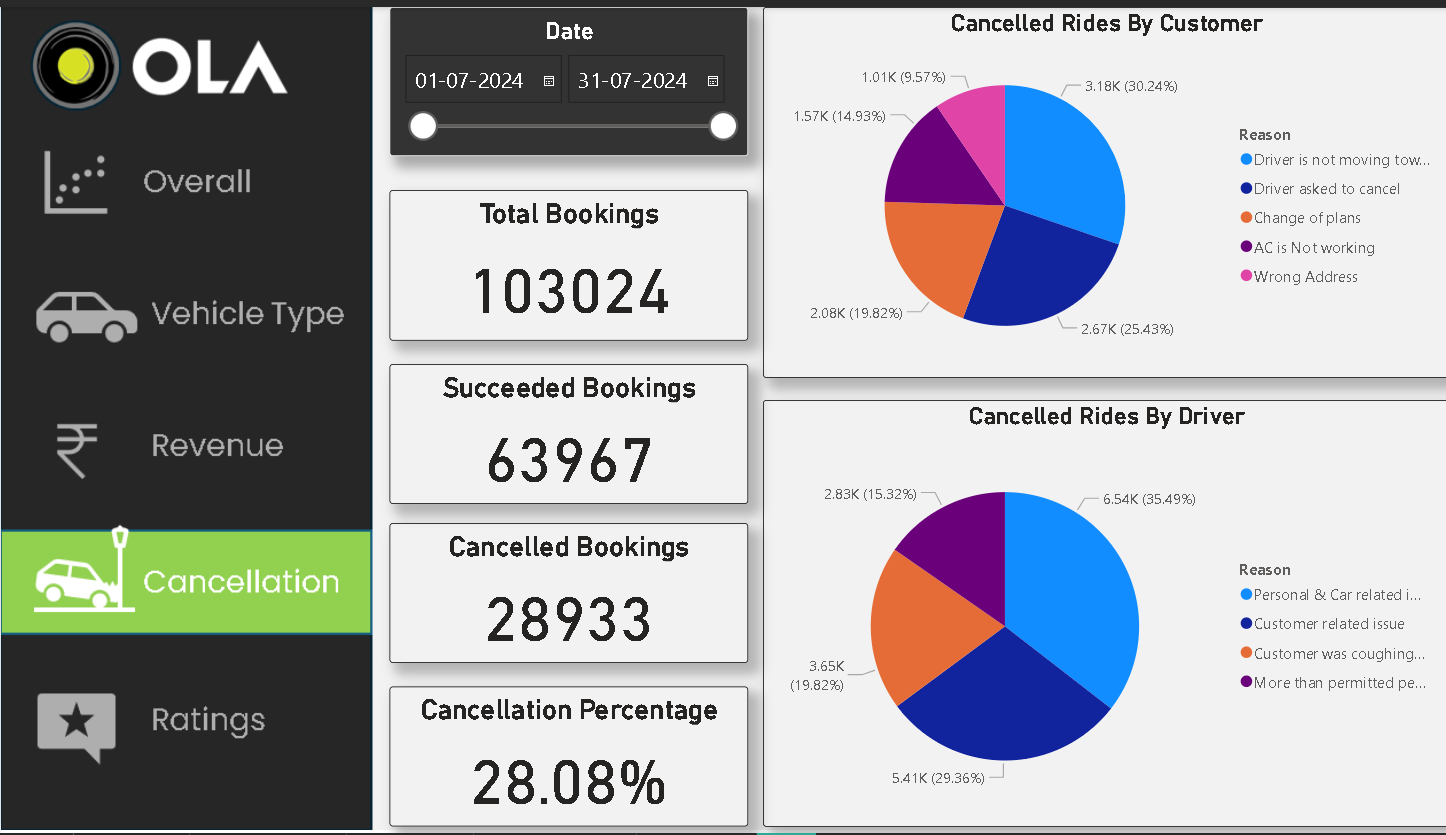

The page's visual inventory and layout, read from the dashboard file:
{"tool":"powerbi","page":{"name":"Cancellation","canvas":[1280,720],"ordinal":3},"visuals":[{"type":"actionButton","box":[0,224.5,324.3,86.6],"z":0},{"type":"actionButton","box":[1.5,341.9,324.3,86.6],"z":1000},{"type":"actionButton","box":[0,110.1,324.3,86.6],"z":2000},{"type":"actionButton","box":[0,582.6,324.3,86.6],"z":3000},{"type":"pieChart","title":"Cancelled Rides By Customer","fields":{"Category":["Bookings-100000-Rows.canceled_rides_by_customer"],"Y":["CountNonNull(Bookings-100000-Rows.canceled_rides_by_customer)"]},"box":[664.1,0,598.4,323.4],"z":4000},{"type":"pieChart","title":"Cancelled Rides By Driver","fields":{"Category":["Bookings-100000-Rows.canceled_rides_by_driver"],"Y":["CountNonNull(Bookings-100000-Rows.canceled_rides_by_driver)"]},"box":[664.1,342.2,598.4,371.9],"z":5000},{"type":"slicer","title":"Date","fields":{"Values":["Bookings-100000-Rows.booking_date"]},"box":[339.1,0,312.5,129.7],"z":6000},{"type":"card","title":"Total Bookings","fields":{"Values":["CountNonNull(Bookings-100000-Rows.booking_id)"]},"box":[339.1,159.4,312.5,131.2],"z":7000},{"type":"card","title":"Succeeded Bookings","fields":{"Values":["CountNonNull(Bookings-100000-Rows.booking_id)"]},"box":[339.1,310.9,312.5,121.9],"z":8000},{"type":"card","title":"Cancelled Bookings","fields":{"Values":["CountNonNull(Bookings-100000-Rows.booking_id)"]},"box":[339.1,450,312.5,121.9],"z":9000},{"type":"card","title":"Cancellation Percentage","fields":{"Values":["July.CanceledPercentage","select"]},"box":[339.1,592.2,312.5,121.9],"z":10000}]}

Visuals, with their boxes in screenshot pixels (x1, y1, x2, y2), scaled from the page's 1280x720 canvas onto the 1446x835 screenshot:
actionButton: 0, 260, 366, 361
actionButton: 2, 397, 368, 497
actionButton: 0, 128, 366, 228
actionButton: 0, 676, 366, 776
"Cancelled Rides By Customer" pieChart: 750, 0, 1426, 375
"Cancelled Rides By Driver" pieChart: 750, 397, 1426, 828
"Date" slicer: 383, 0, 736, 150
"Total Bookings" card: 383, 185, 736, 337
"Succeeded Bookings" card: 383, 361, 736, 502
"Cancelled Bookings" card: 383, 522, 736, 663
"Cancellation Percentage" card: 383, 687, 736, 828
